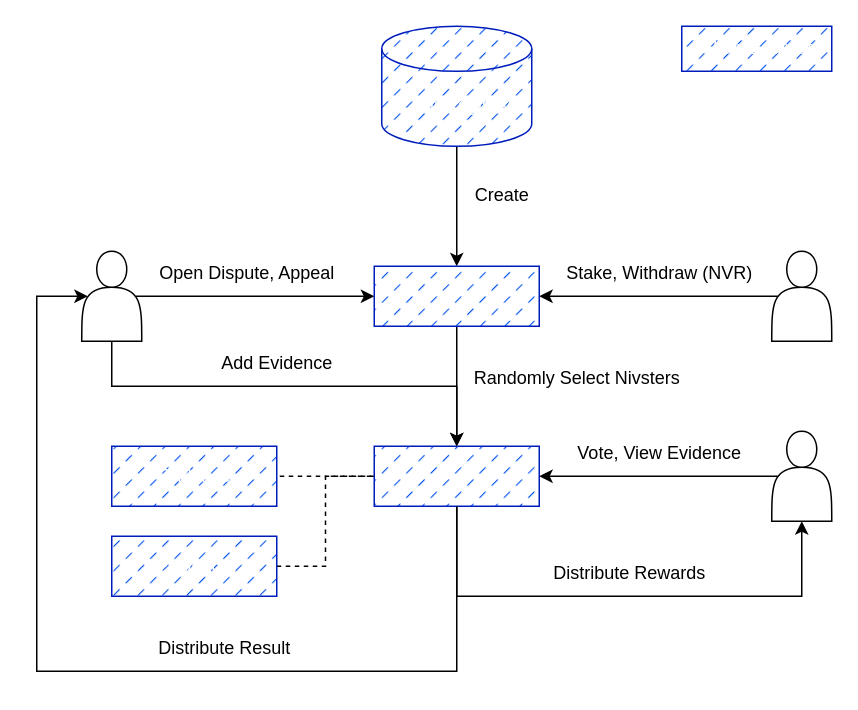
Image size: 858x710. Some labels were removed from this diagram. The centre of each missing label's shape, as x and y in pixels:
"Court" belongs at (x=456, y=295).
"Dispute" belongs at (x=456, y=475).
